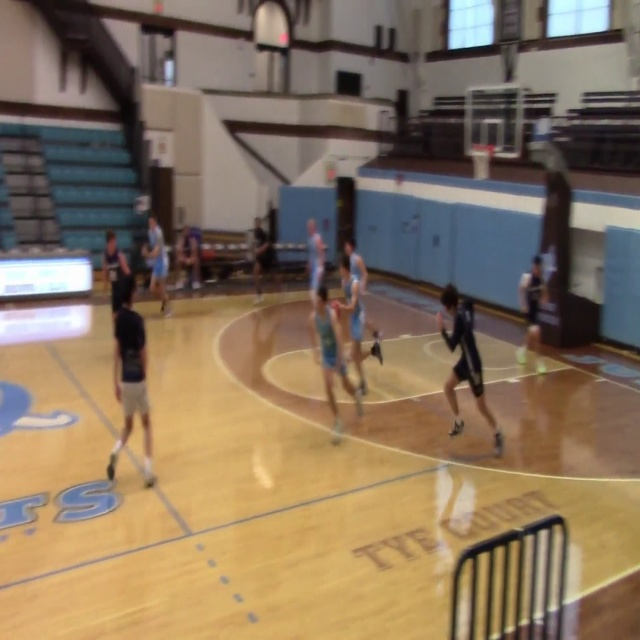Basketball: (527, 324, 541, 341)
